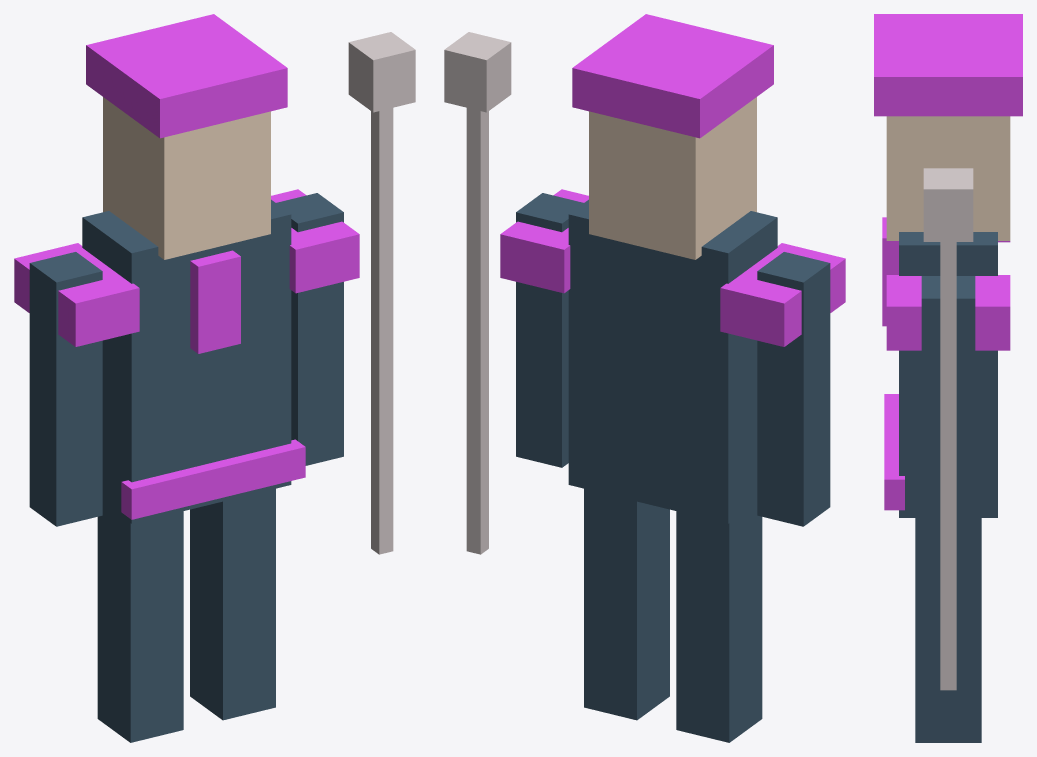
Rendered from 03_korra_latchward_fixer_of_loot.glb.
3 views of the same model, side by side, from view 1: azimuth 30°, elevation 25°; view 2: azimuth 150°, elevation 25°; view 3: azimuth 270°, elevation 25° (orthographic).
Visible parts, largest first — view 1: Korra Latchward, Fixer of Loot; view 2: Korra Latchward, Fixer of Loot; view 3: Korra Latchward, Fixer of Loot.
Boxes of the visible parts, left/top/right/bottom form: Korra Latchward, Fixer of Loot: left=14, top=14, right=415, bottom=742; Korra Latchward, Fixer of Loot: left=444, top=14, right=845, bottom=742; Korra Latchward, Fixer of Loot: left=874, top=14, right=1022, bottom=742.
Size of the model in its own units: 0.9528 by 1.66 by 0.3379.
